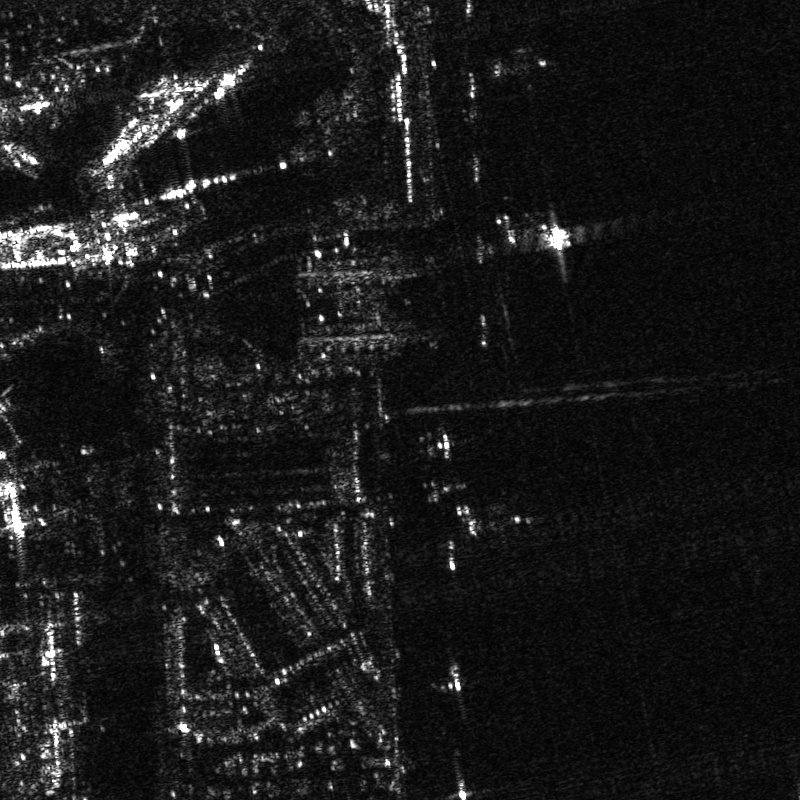A220: (479, 28, 557, 92), (435, 663, 480, 718), (411, 430, 471, 464), (436, 768, 491, 799), (445, 500, 482, 540)
other: (418, 478, 475, 504)
